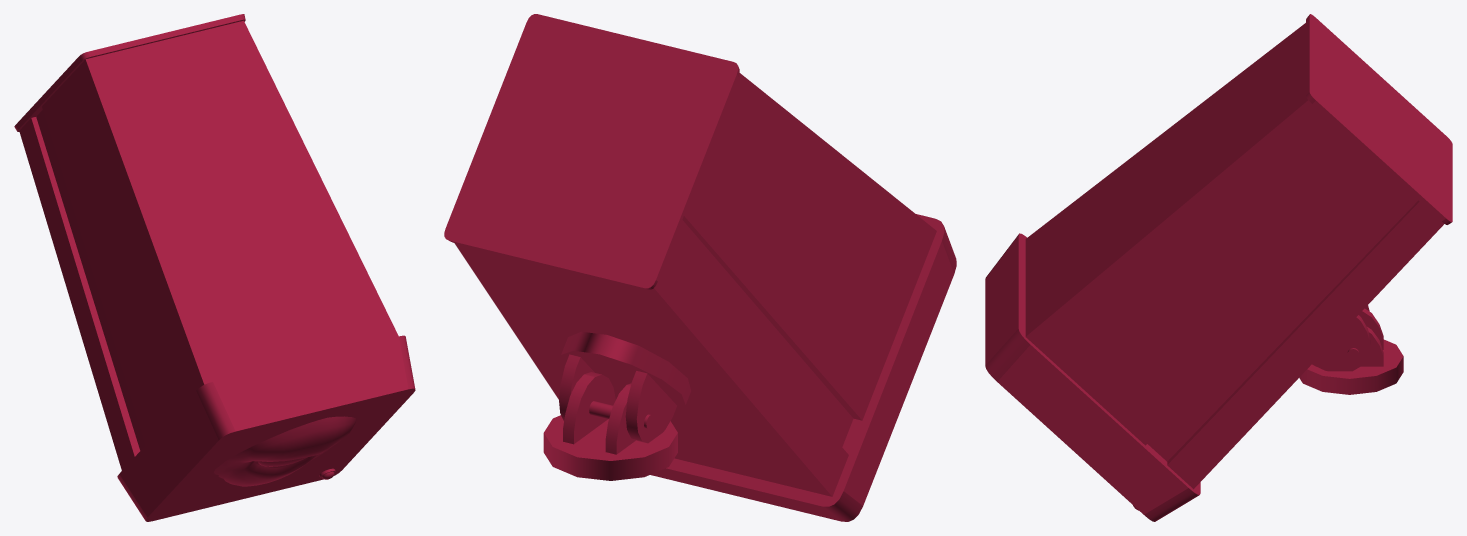
The model's file is CameraAno.fbx.
3 renders of one model, left to right at view 1: azimuth 30°, elevation 25°; view 2: azimuth 150°, elevation 25°; view 3: azimuth 270°, elevation 25°, orthographic. The views are drawn at different scales.
Parts seen in each view (by area): view 1: AnomalyCamera_LowPoly; view 2: AnomalyCamera_LowPoly; view 3: AnomalyCamera_LowPoly.
Boxes of the visible parts, x1,y1,x2,y2 form: AnomalyCamera_LowPoly: (14, 14, 415, 521); AnomalyCamera_LowPoly: (444, 14, 956, 521); AnomalyCamera_LowPoly: (985, 14, 1452, 521).
Bounding box in the file's own units: 7.33 × 13.9 × 13.9.
